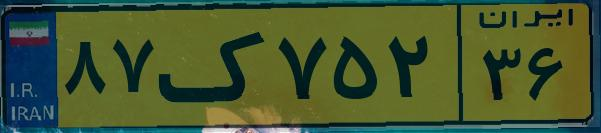2: (385, 28, 445, 110)
3: (475, 38, 525, 113)
5: (330, 28, 385, 110)
6: (525, 38, 570, 115)
7: (270, 28, 330, 110), (110, 28, 158, 98)
8: (57, 26, 110, 100)
ک: (158, 12, 270, 120)
